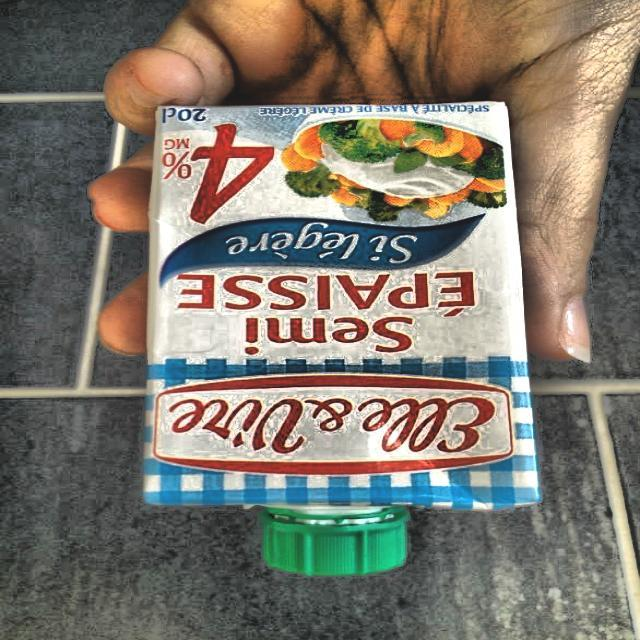cardboard: (143, 100, 542, 514)
